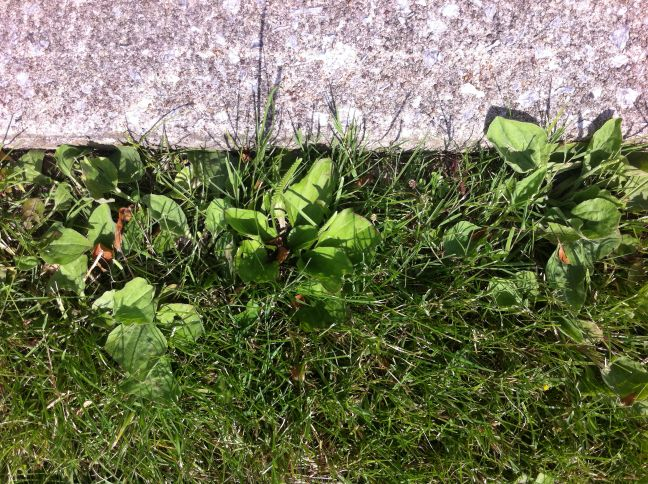weed1: (480, 111, 644, 280), (9, 143, 209, 278), (210, 155, 380, 305), (77, 271, 208, 387)
